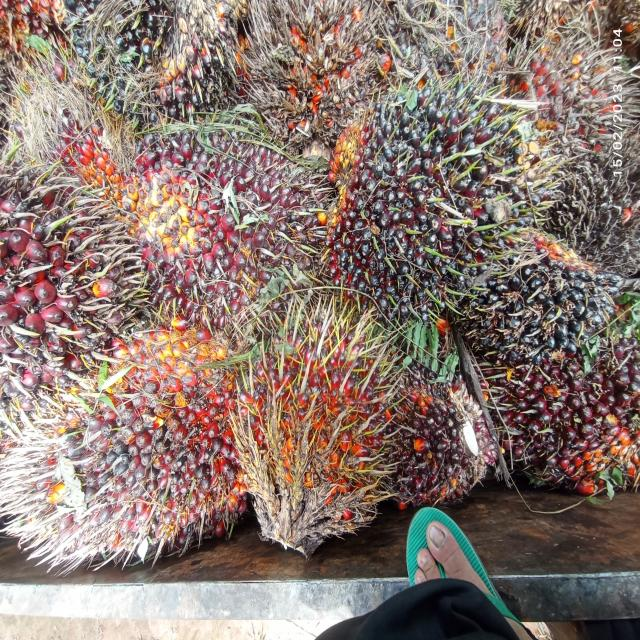fraksi 00: (292, 36, 532, 308), (469, 200, 621, 370)
fraksi 1: (50, 73, 325, 328), (515, 291, 640, 501), (371, 325, 497, 523)
fraksi 3: (9, 294, 285, 574), (210, 277, 423, 569)
fraksi 4: (253, 0, 393, 154)
